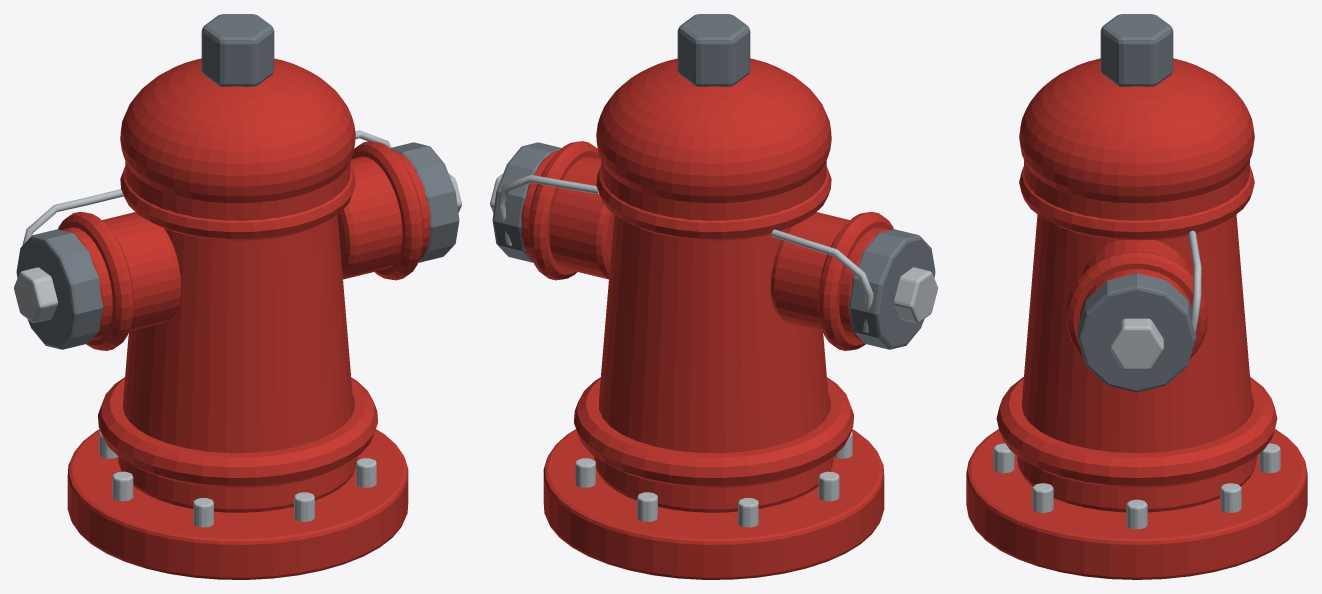
File: prop_starter_fire_hydrant_a_v01.glb
3 views of the same model, side by side, from view 1: azimuth 30°, elevation 25°; view 2: azimuth 150°, elevation 25°; view 3: azimuth 270°, elevation 25° (orthographic).
Visible parts, largest first — view 1: component__main_barrel__main_barrel, component__domed_bonnet__domed_bonnet, component__base_flange__base_flange, component__body_collars__lower_body_collar, component__left_hose_outlet__left_outlet_neck, component__right_hose_outlet__right_outlet_neck, component__hose_caps__left_hose_cap, component__operating_nut__operating_nut, component__body_collars__upper_body_collar, component__domed_bonnet__bonnet_lower_ring, component__left_hose_outlet__left_outlet_collar, component__hose_caps__right_hose_cap (+7 smaller); view 2: component__main_barrel__main_barrel, component__domed_bonnet__domed_bonnet, component__base_flange__base_flange, component__body_collars__lower_body_collar, component__left_hose_outlet__left_outlet_neck, component__right_hose_outlet__right_outlet_neck, component__hose_caps__left_hose_cap, component__operating_nut__operating_nut, component__body_collars__upper_body_collar, component__domed_bonnet__bonnet_lower_ring, component__left_hose_outlet__left_outlet_collar, component__right_hose_outlet__right_outlet_collar (+8 smaller); view 3: component__main_barrel__main_barrel, component__domed_bonnet__domed_bonnet, component__base_flange__base_flange, component__body_collars__lower_body_collar, component__hose_caps__right_hose_cap, component__operating_nut__operating_nut, component__body_collars__upper_body_collar, component__domed_bonnet__bonnet_lower_ring, component__right_hose_outlet__right_outlet_collar, component__hose_caps__right_cap_nut, component__right_hose_outlet__right_outlet_neck, component__cap_chains__right_cap_chain (+5 smaller).
Boxes of the visible parts, x1,y1,x2,y2 form: component__main_barrel__main_barrel: [118, 214, 357, 512]; component__domed_bonnet__domed_bonnet: [120, 58, 355, 203]; component__base_flange__base_flange: [67, 429, 408, 579]; component__body_collars__lower_body_collar: [98, 377, 377, 487]; component__left_hose_outlet__left_outlet_neck: [61, 212, 181, 341]; component__right_hose_outlet__right_outlet_neck: [337, 150, 430, 279]; component__hose_caps__left_hose_cap: [16, 229, 103, 349]; component__operating_nut__operating_nut: [201, 14, 274, 86]; component__body_collars__upper_body_collar: [120, 166, 355, 240]; component__domed_bonnet__bonnet_lower_ring: [125, 160, 350, 220]; component__left_hose_outlet__left_outlet_collar: [58, 212, 133, 350]; component__hose_caps__right_hose_cap: [390, 142, 459, 262]; component__main_barrel__main_barrel: [594, 214, 833, 512]; component__domed_bonnet__domed_bonnet: [596, 58, 831, 203]; component__base_flange__base_flange: [543, 429, 884, 579]; component__body_collars__lower_body_collar: [574, 377, 853, 487]; component__left_hose_outlet__left_outlet_neck: [770, 212, 890, 341]; component__right_hose_outlet__right_outlet_neck: [521, 150, 614, 279]; component__hose_caps__left_hose_cap: [848, 229, 935, 349]; component__operating_nut__operating_nut: [677, 14, 750, 86]; component__body_collars__upper_body_collar: [596, 166, 831, 240]; component__domed_bonnet__bonnet_lower_ring: [601, 160, 826, 220]; component__left_hose_outlet__left_outlet_collar: [818, 212, 893, 350]; component__right_hose_outlet__right_outlet_collar: [528, 141, 600, 280]; component__main_barrel__main_barrel: [1017, 214, 1256, 512]; component__domed_bonnet__domed_bonnet: [1019, 58, 1254, 203]; component__base_flange__base_flange: [966, 429, 1307, 579]; component__body_collars__lower_body_collar: [996, 377, 1277, 487]; component__hose_caps__right_hose_cap: [1077, 273, 1196, 392]; component__operating_nut__operating_nut: [1100, 14, 1173, 86]; component__body_collars__upper_body_collar: [1019, 166, 1254, 240]; component__domed_bonnet__bonnet_lower_ring: [1024, 160, 1249, 220]; component__right_hose_outlet__right_outlet_collar: [1065, 251, 1208, 358]; component__hose_caps__right_cap_nut: [1110, 318, 1163, 369]; component__right_hose_outlet__right_outlet_neck: [1079, 240, 1192, 320]; component__cap_chains__right_cap_chain: [1188, 230, 1201, 332].
Bounding box in the file's own units: 0.975 × 1.06 × 0.68.
